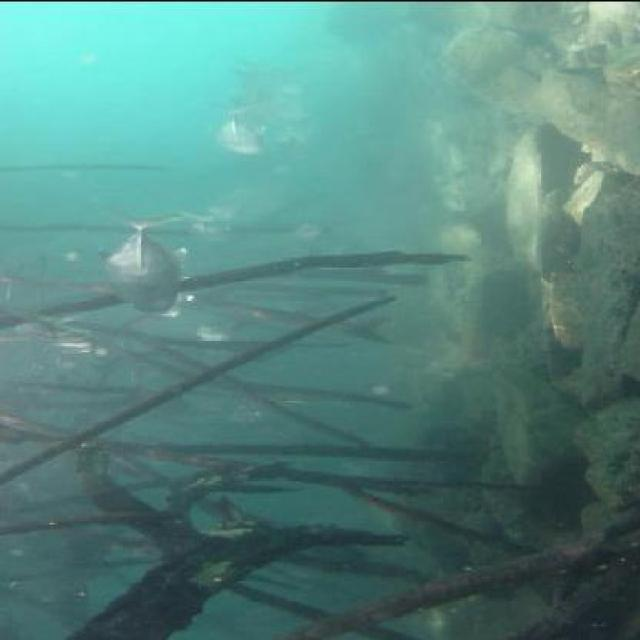Caranx_sexfasciatus_juvenile: (94, 204, 198, 318), (224, 50, 293, 119), (22, 304, 113, 354), (174, 194, 255, 248), (209, 102, 273, 162)
